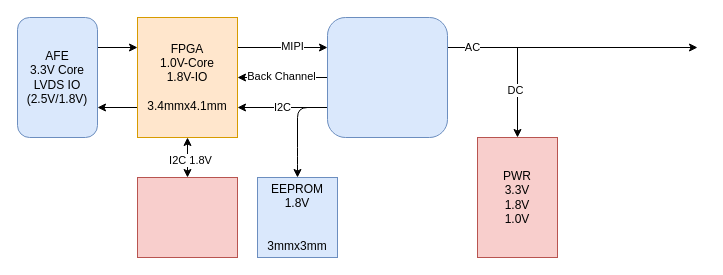
The diagram is 723 pixels wide and 275 high, and some of its shapes have lost their labels. The centre of each missing label's shape, as x and y in pixels:
"IMU 3.3V-Core 1.8V-IO 5.2mmx3.8mm" goes at (187,217).
"Serdes 1.8V-VDD 1.8V-VDD18 1.8V-VDIO 7mmx7mm" goes at (387,77).
